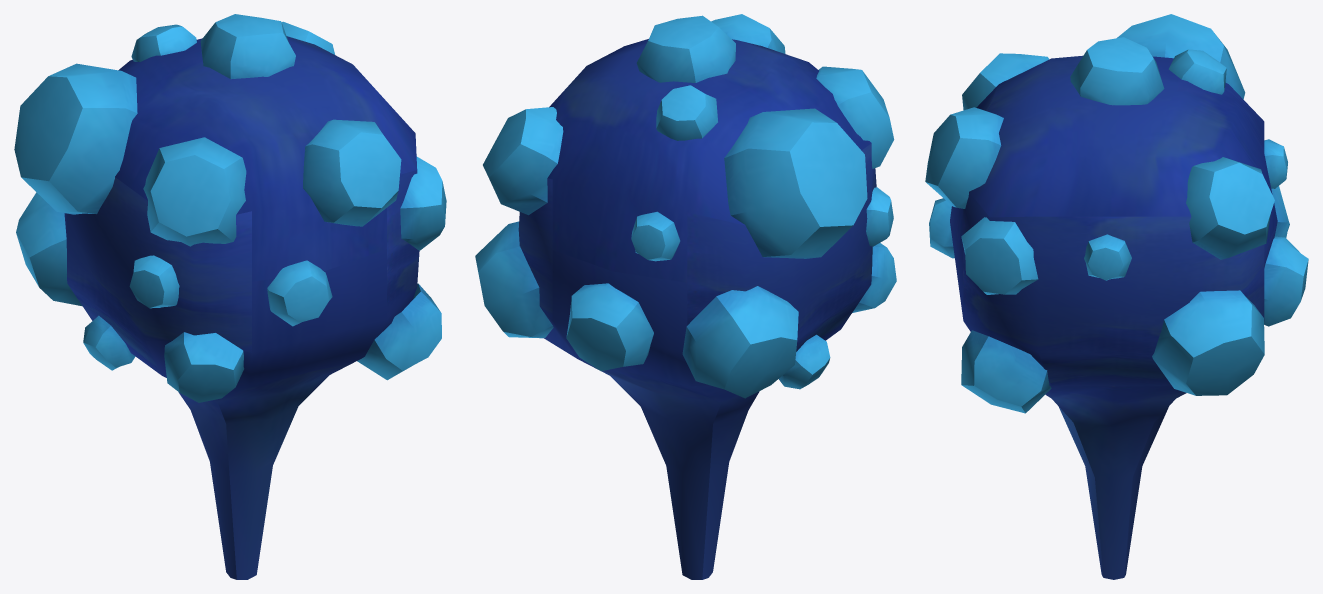
The model's file is Plant B.fbx.
The picture shows the model from 3 angles, left to right: view 1: azimuth 30°, elevation 25°; view 2: azimuth 150°, elevation 25°; view 3: azimuth 270°, elevation 25°; orthographic projection. The views are drawn at different scales.
Parts seen in each view (by area): view 1: Plant_B; view 2: Plant_B; view 3: Plant_B.
Part boxes in pixels (bbox=[...]): Plant_B: bbox=[14, 14, 446, 579]; Plant_B: bbox=[475, 14, 896, 579]; Plant_B: bbox=[925, 14, 1308, 579].
Bounding box in the file's own units: 2099 × 3123 × 2030.
Materials: 1 (1 with a texture image).
